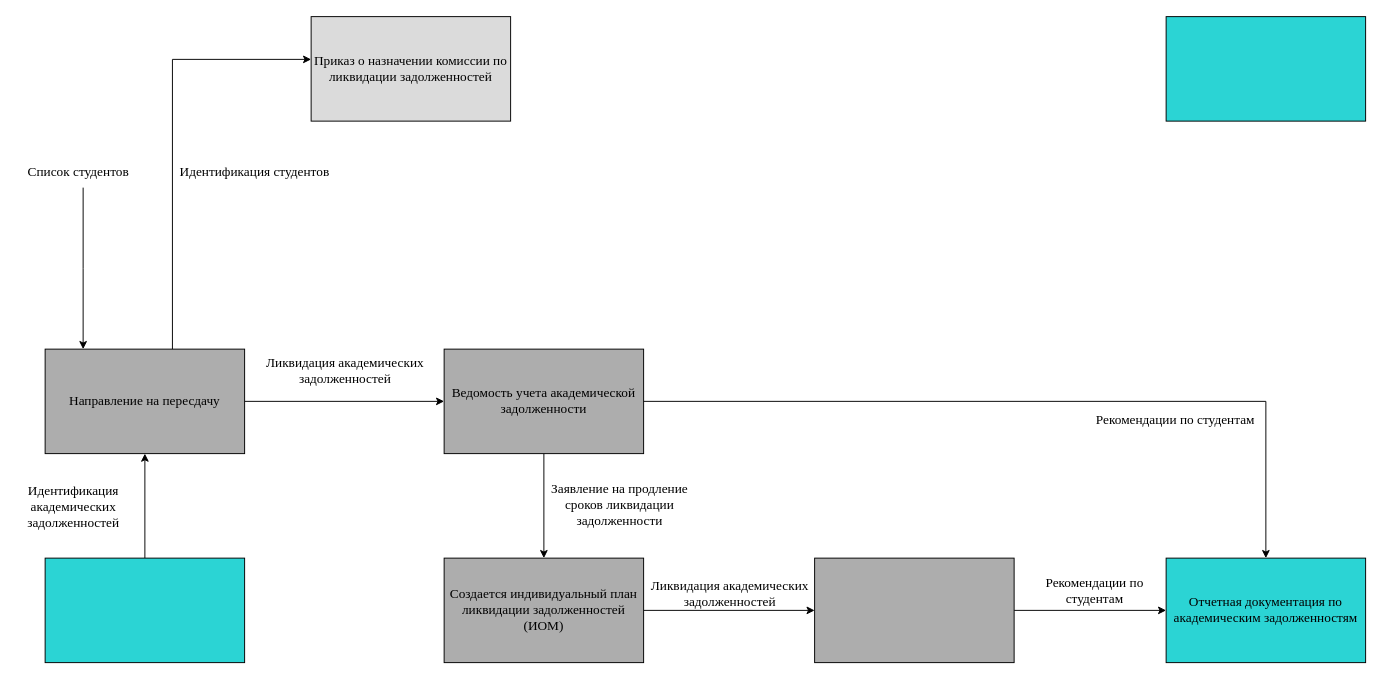
This 1382x679 diagram has some shape labels left out. The centre of each missing label's shape, as x and y in pixels:
Ведомость учета академической задолженности для студентов с ИОМ: (x=914, y=610)
Наличие академических задолженностей: (x=144, y=610)
Студент: (x=1265, y=68)
